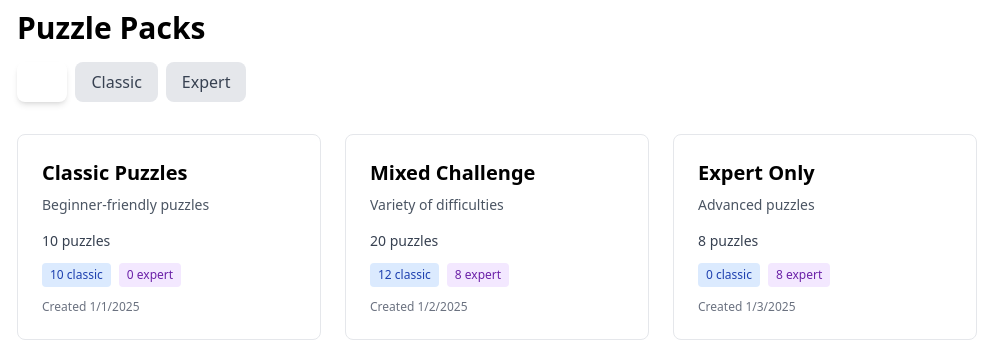
Test: Packs Index Filtering › should allow clearing filters
Expected: the heading "Classic Puzzles" is shown, [42,159,188,186]
Step 1. Click the button "Classic" → [117, 82], box [76,62,158,102]
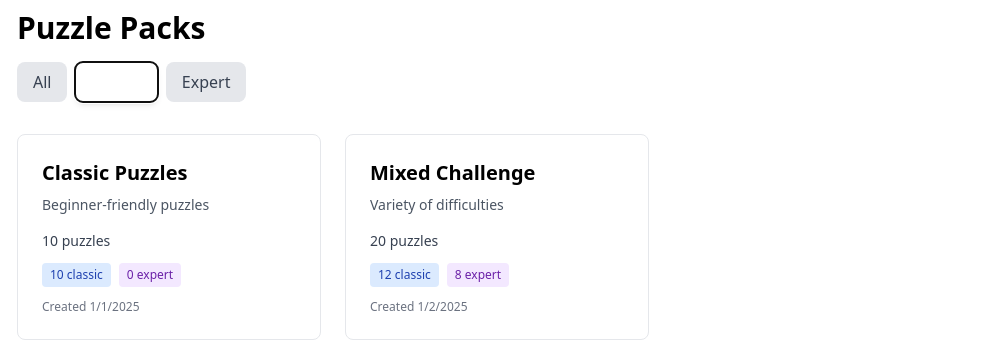
Expected: the link "Expert Only" is gone
Note: Clear filter
Step 2. Click the button "All" → [42, 82], box [17,62,68,102]
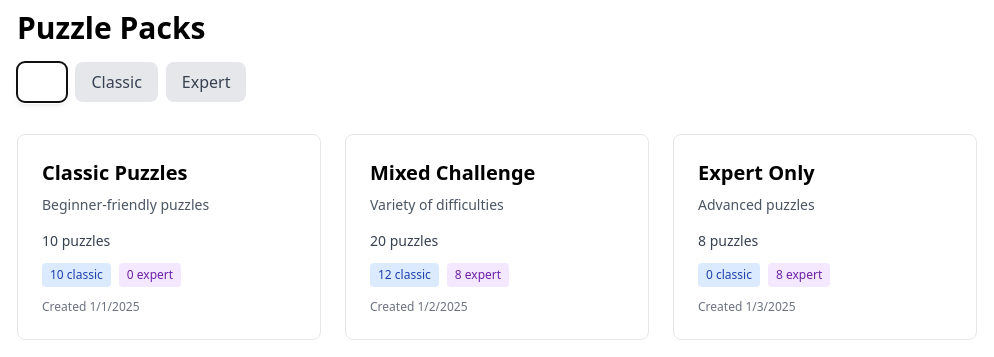
Expected: the heading "Classic Puzzles" is shown, [42,159,188,186]
Expected: the heading "Expert Only" is shown, [698,159,815,186]
